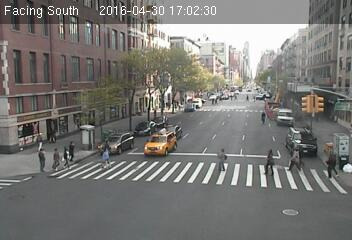neg: (150, 124, 164, 144), (297, 96, 311, 116), (275, 68, 288, 85), (233, 29, 245, 45), (90, 51, 102, 67), (252, 176, 263, 191), (117, 196, 128, 210), (4, 126, 15, 140), (8, 178, 18, 192), (258, 110, 268, 123), (179, 16, 189, 29), (110, 167, 119, 178), (36, 97, 45, 108), (260, 77, 268, 87), (145, 58, 152, 68), (246, 79, 253, 88), (174, 187, 181, 196), (297, 45, 304, 54), (75, 17, 82, 26), (209, 68, 216, 76), (196, 110, 203, 118), (283, 114, 289, 122), (210, 136, 216, 144), (69, 200, 75, 208), (266, 95, 272, 102), (237, 140, 243, 147), (211, 19, 216, 27), (147, 23, 152, 30), (237, 68, 242, 75)
pos: (315, 148, 341, 183), (254, 145, 280, 180), (281, 145, 306, 178), (205, 142, 230, 174), (31, 146, 51, 173), (95, 147, 114, 172), (46, 146, 65, 171), (61, 137, 80, 161), (97, 134, 115, 158), (58, 145, 76, 169), (163, 97, 172, 110), (175, 98, 182, 106), (213, 96, 219, 104), (210, 96, 216, 104), (245, 92, 250, 99), (230, 93, 235, 100), (233, 93, 238, 99)
